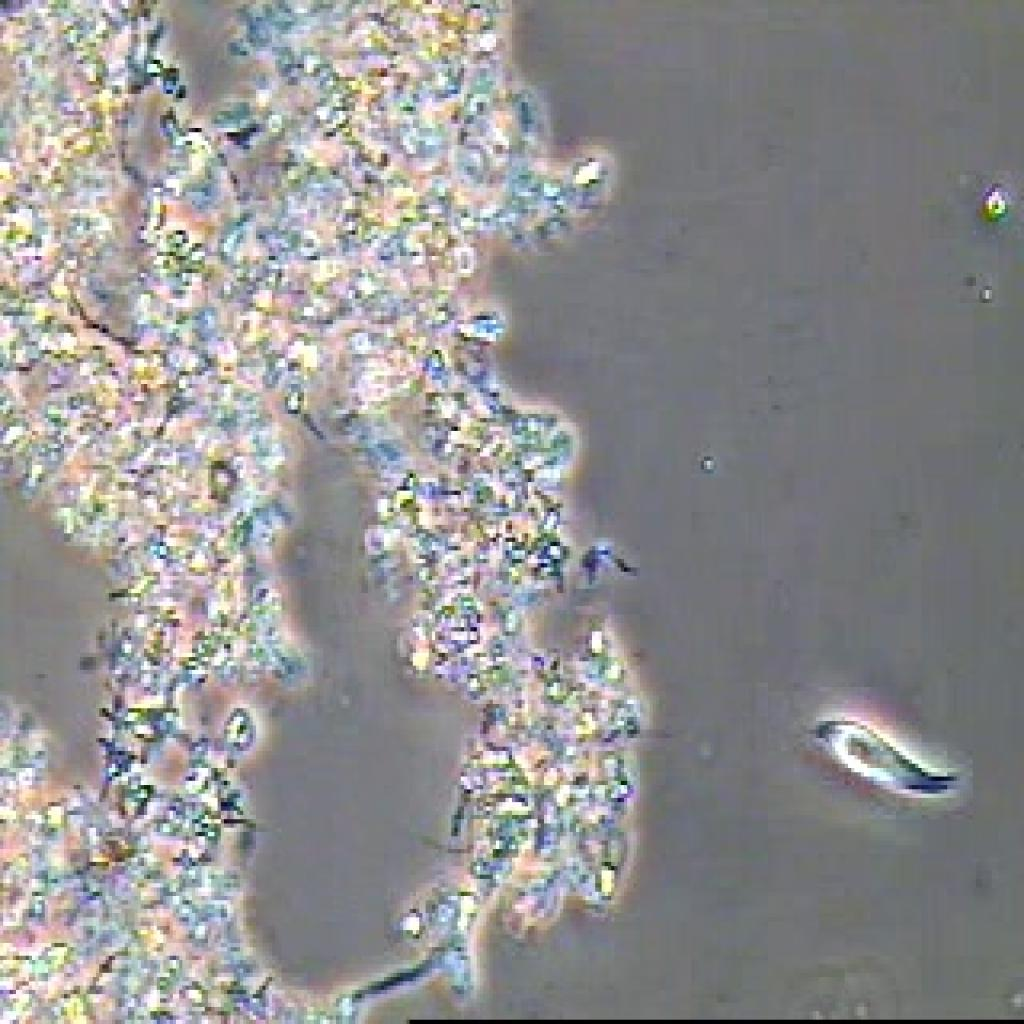Pristina: (788, 689, 982, 826)
